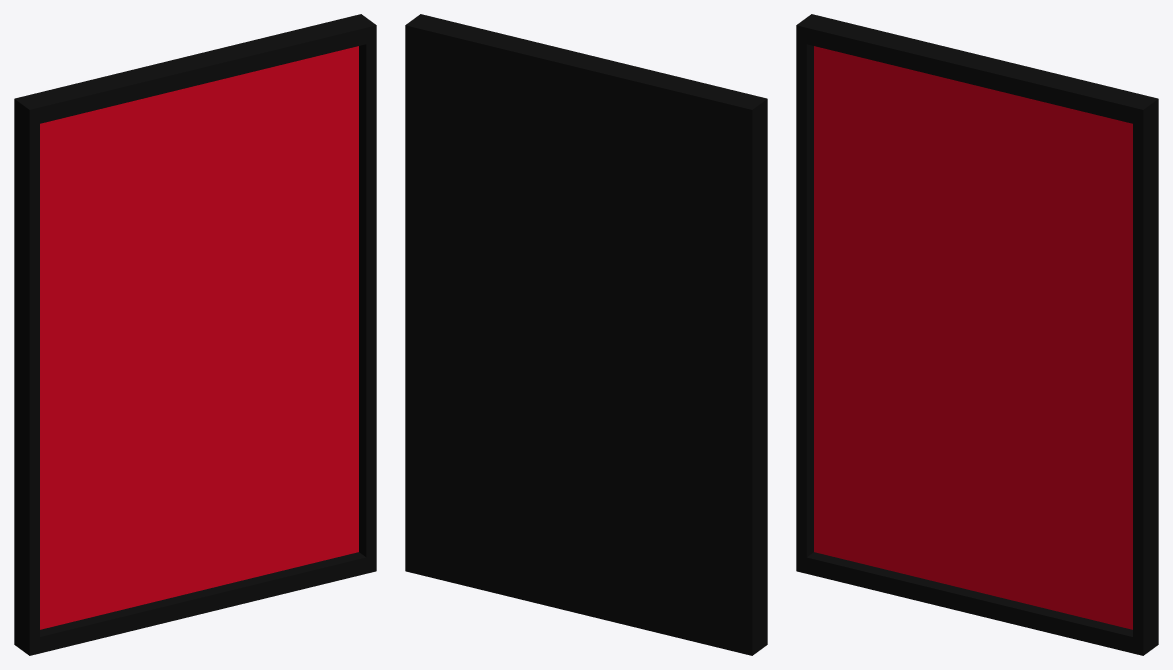
File: propPotPhotoFrame.fbx
3 renders of one model, left to right at view 1: azimuth 30°, elevation 25°; view 2: azimuth 150°, elevation 25°; view 3: azimuth 330°, elevation 25°, orthographic.
Parts seen in each view (by area): view 1: propPotPhotoFrame; view 2: propPotPhotoFrame; view 3: propPotPhotoFrame.
Boxes of the visible parts, x1,y1,x2,y2 form: propPotPhotoFrame: (14, 14, 376, 655); propPotPhotoFrame: (405, 14, 767, 655); propPotPhotoFrame: (796, 14, 1158, 655).
Bounding box in the file's own units: 239 × 360 × 18.48.
